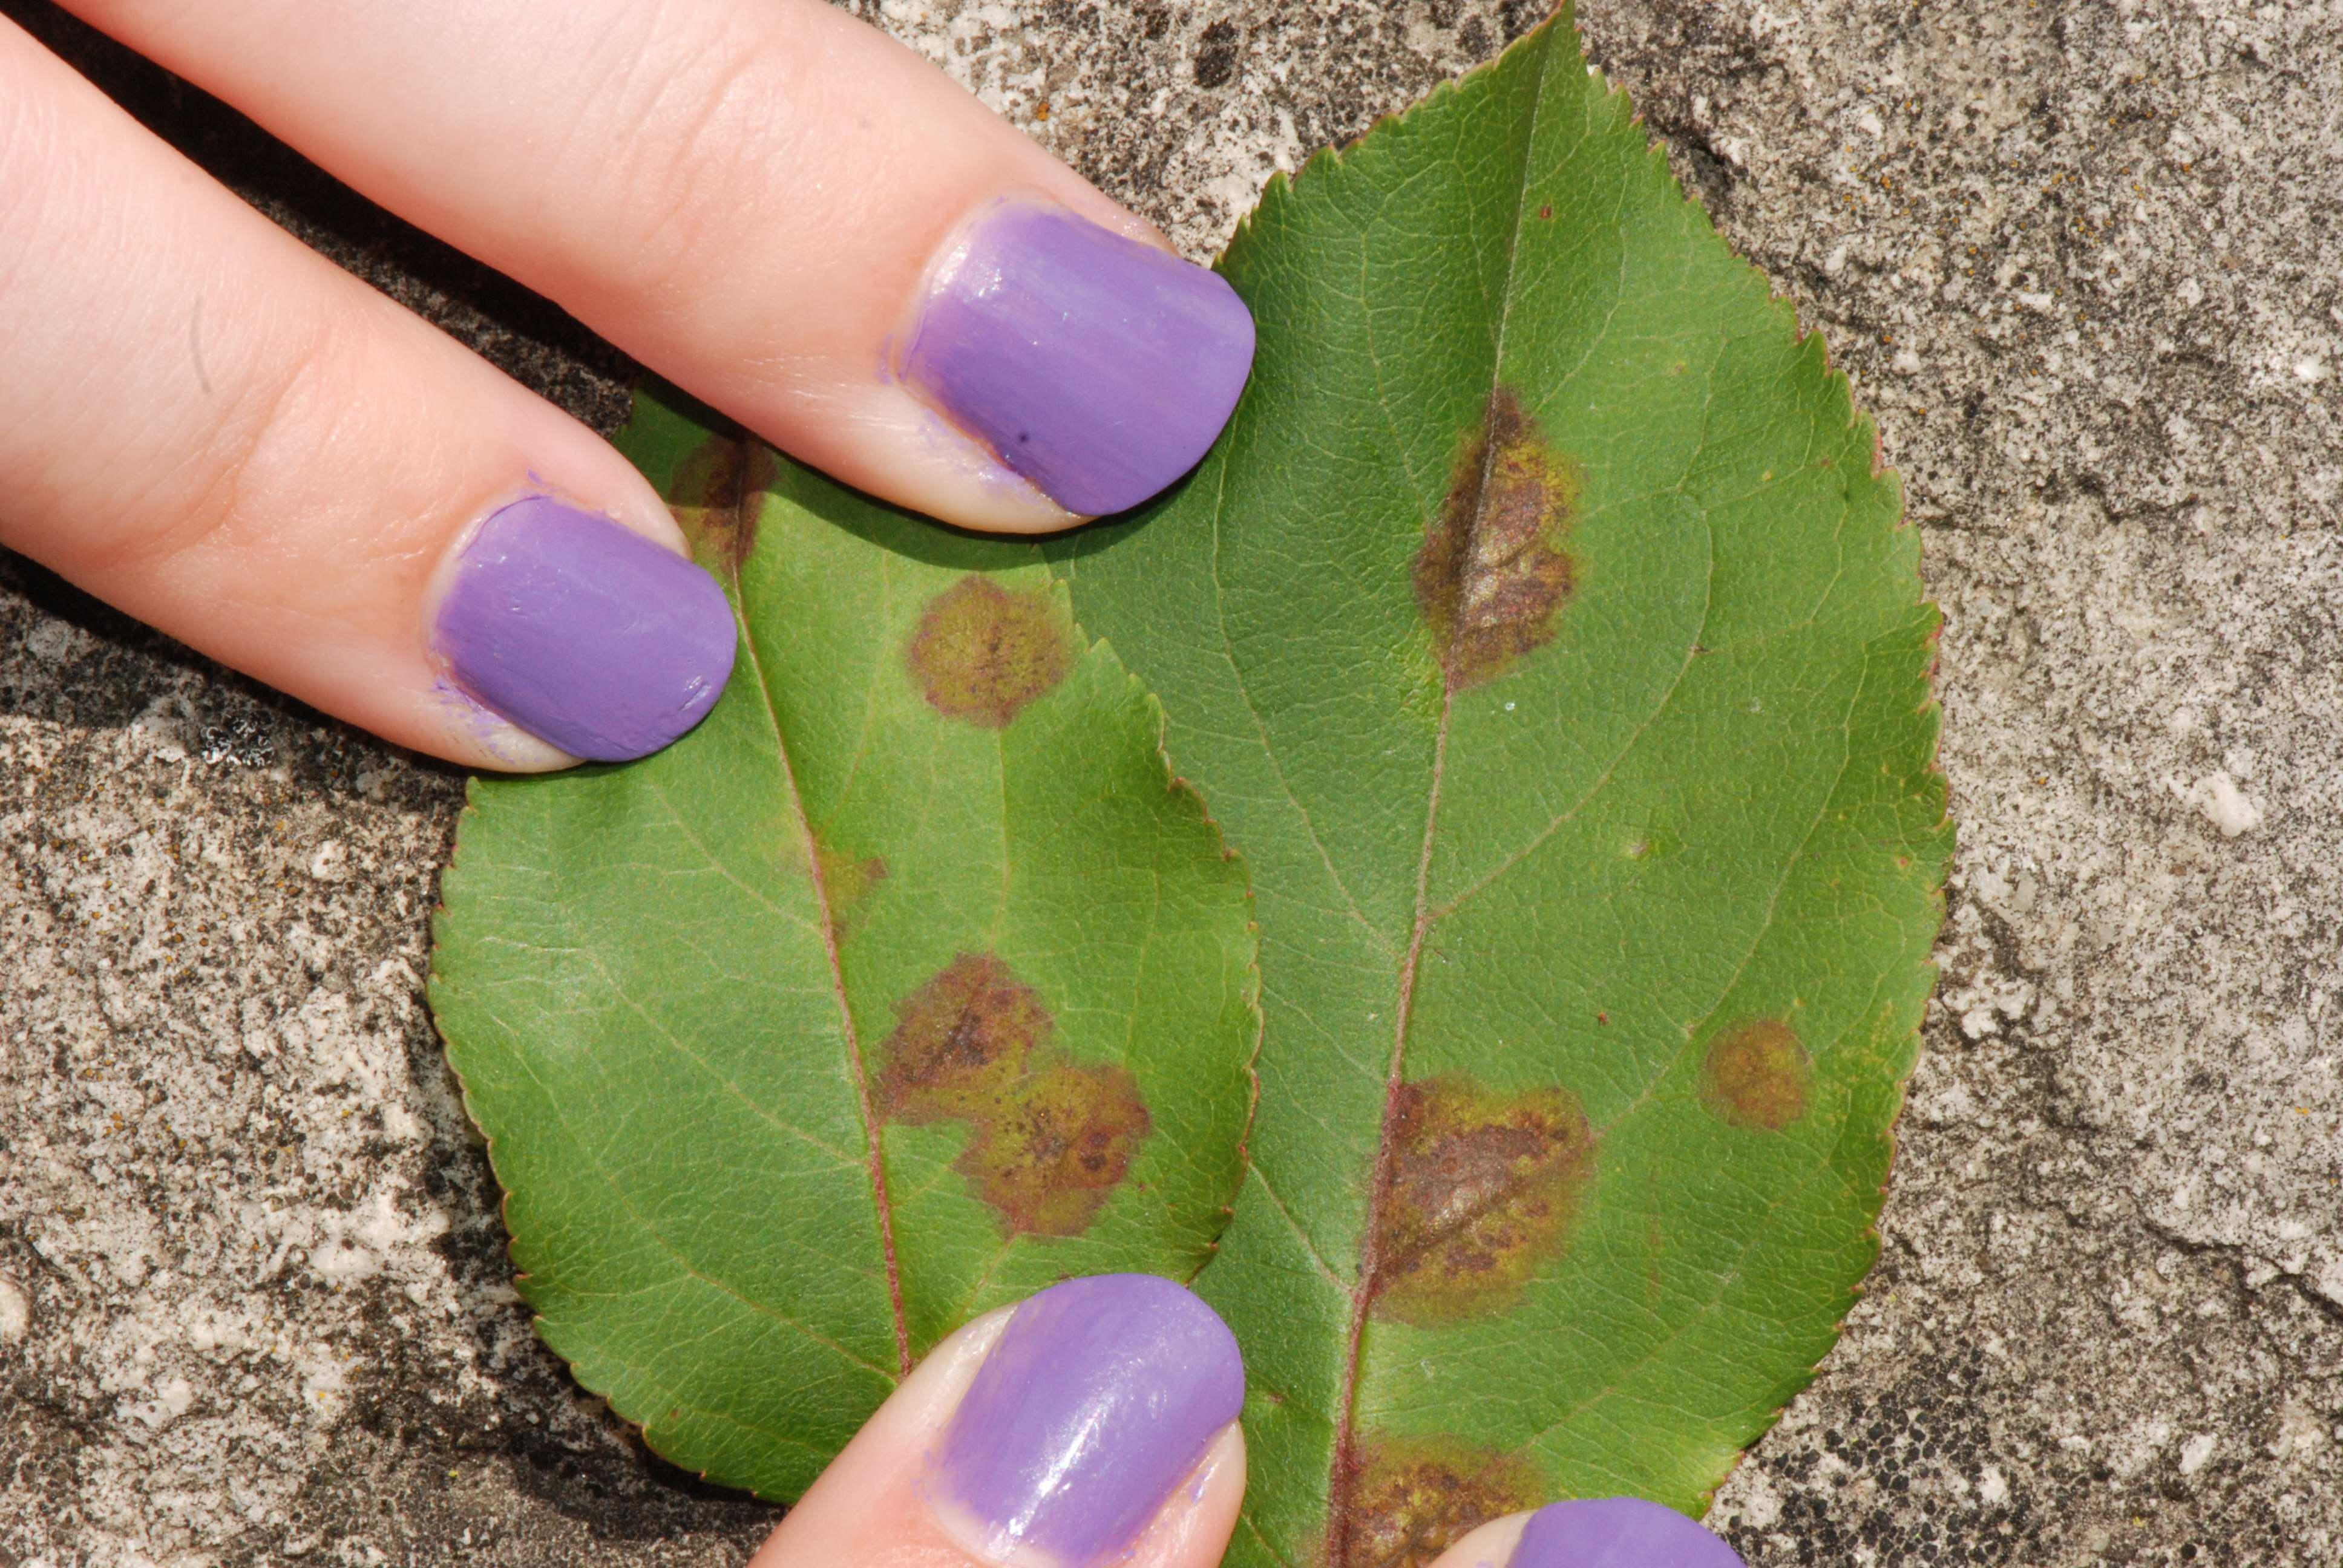Apple Scab Leaf: (434, 448, 1241, 1498), (1297, 268, 1977, 1501)
